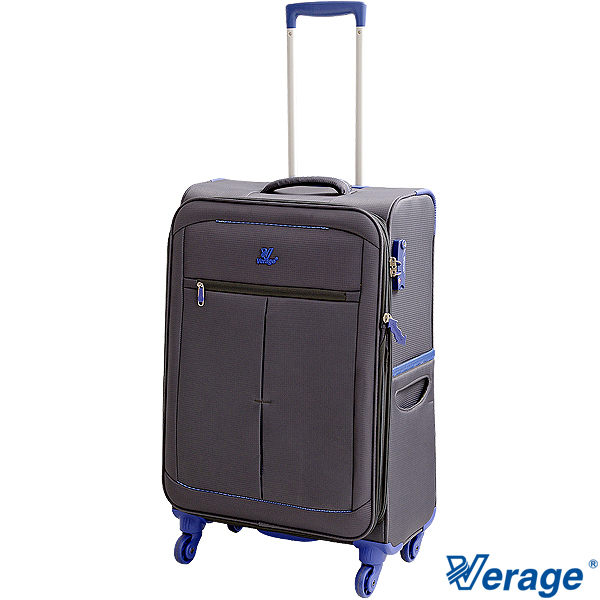suitcase: (158, 0, 439, 600)
